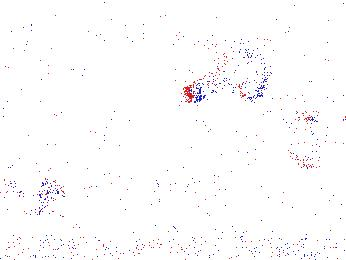flame jellyfish: (184, 46, 273, 105), (285, 114, 337, 170), (30, 160, 82, 208)
